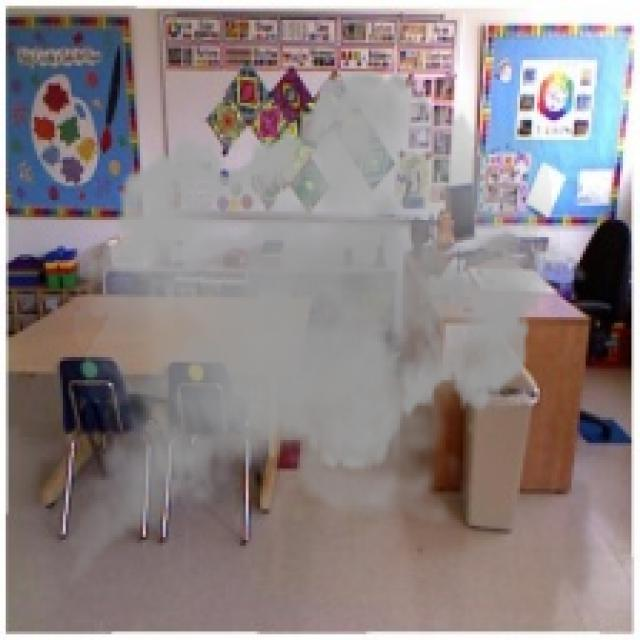smoke: (54, 55, 589, 614)
